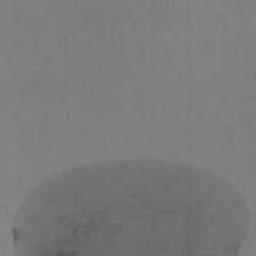Oil spot: (12, 157, 252, 256)
